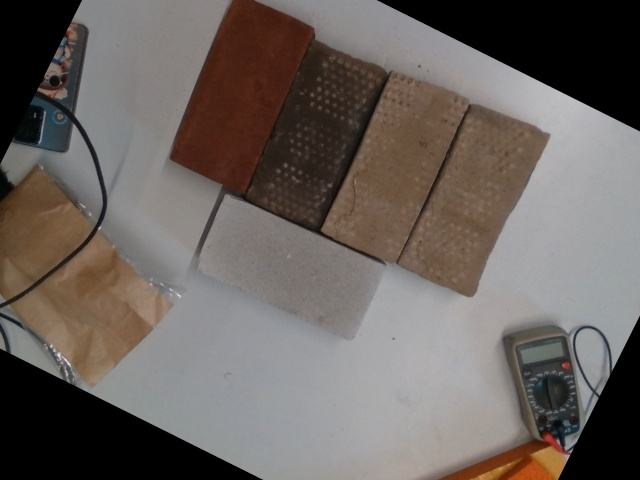brick: (193, 194, 386, 339), (321, 70, 464, 263), (241, 41, 387, 230), (404, 104, 540, 296)
